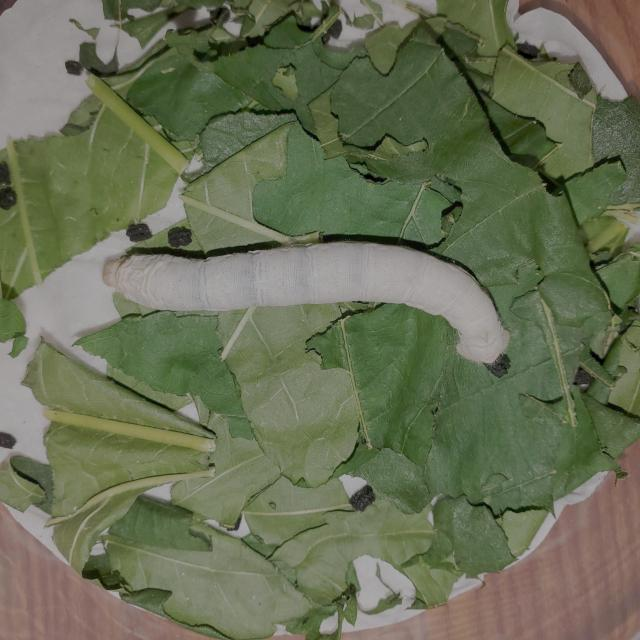Healthy: (94, 233, 516, 373)
